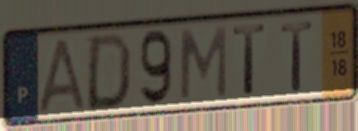9: (138, 28, 175, 108)
A: (36, 36, 88, 115)
D: (83, 30, 134, 113)
M: (177, 23, 229, 102)
T: (231, 22, 269, 98), (279, 18, 316, 94)
